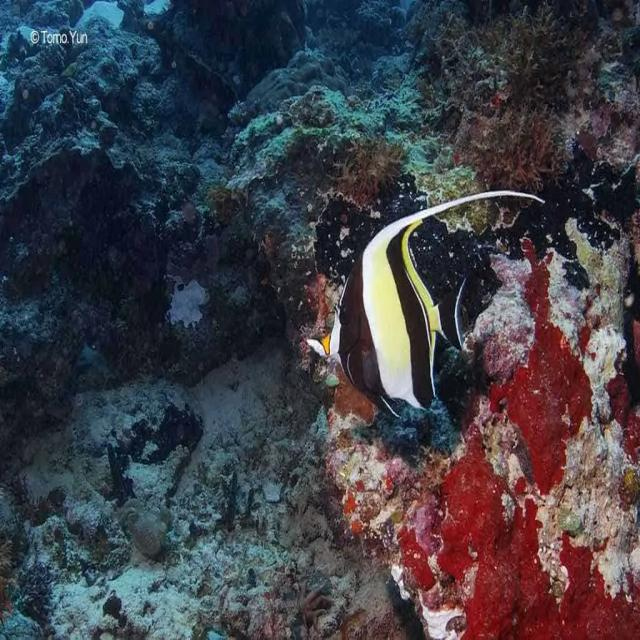MorishIdol: (304, 186, 546, 422)
